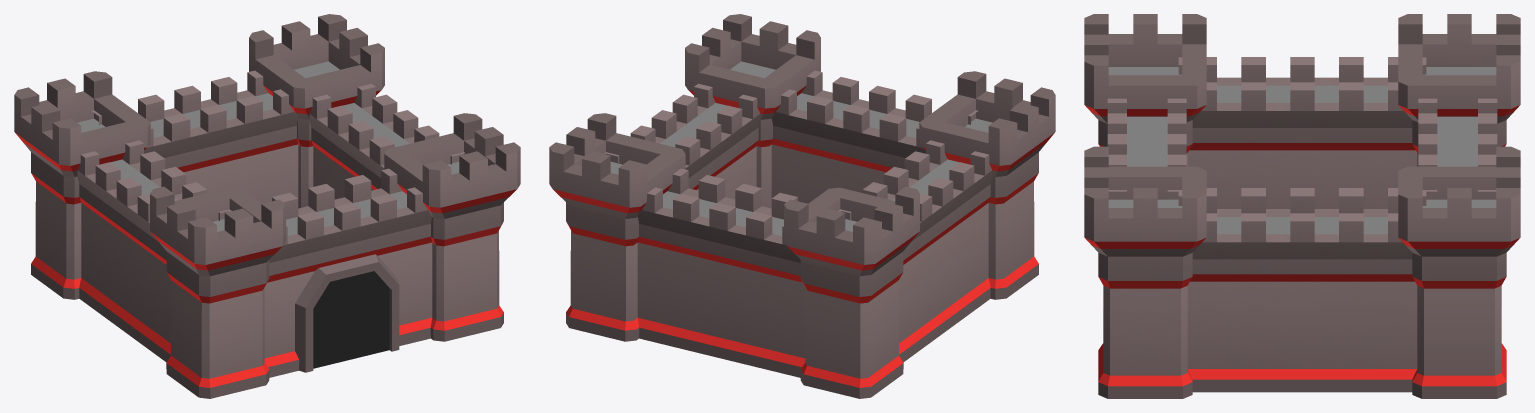
The model's file is Castle_A_enemy.fbx.
3 views of the same model, side by side, from view 1: azimuth 30°, elevation 25°; view 2: azimuth 150°, elevation 25°; view 3: azimuth 270°, elevation 25° (orthographic). The views are drawn at different scales.
Visible parts, largest first — view 1: Castle_A_enemy; view 2: Castle_A_enemy; view 3: Castle_A_enemy.
Boxes of the visible parts, box(x1,y1,x2,y2) form: Castle_A_enemy: box(14, 14, 520, 398); Castle_A_enemy: box(549, 14, 1055, 398); Castle_A_enemy: box(1084, 14, 1520, 398).
Bounding box in the file's own units: 13.9 × 7.26 × 13.9.
